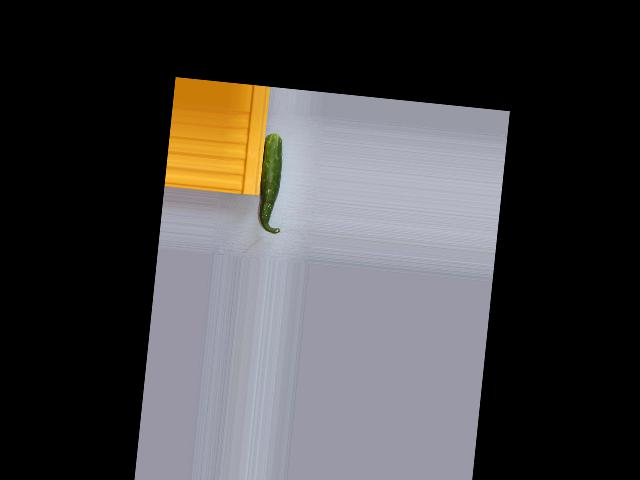cucumber: (255, 133, 290, 234)
